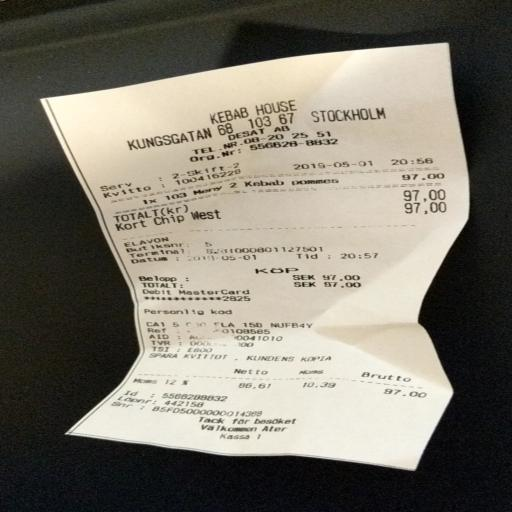paper: (2, 35, 512, 512)
